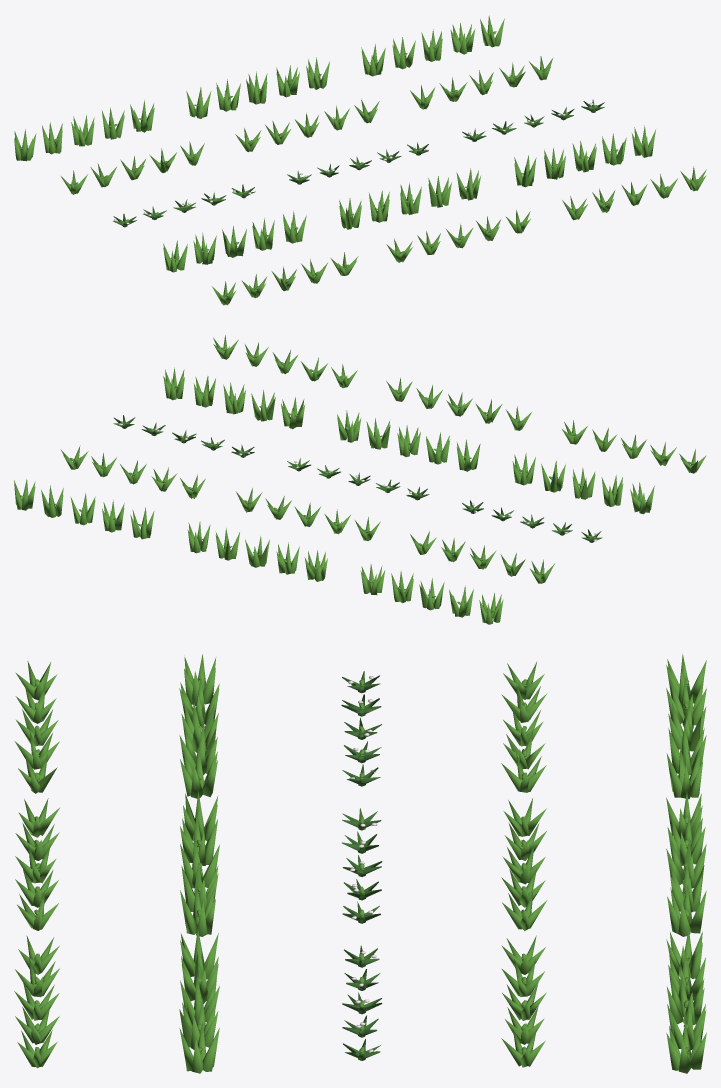
Rendered from crops-xuan.glb.
3 renders of one model, top to bottom at view 1: azimuth 30°, elevation 25°; view 2: azimuth 150°, elevation 25°; view 3: azimuth 270°, elevation 25°, orthographic. The views are drawn at different scales.
Parts seen in each view (by area): view 1: crop-b11-young, crop-b10-young, crop-b2-young, crop-b1-young, crop-b0-young, crop-b9-young, crop-b14-young, crop-b4-young, crop-b12-young, crop-b13-young, crop-b5-young, crop-b3-young (+3 smaller); view 2: crop-b0-young, crop-b11-young, crop-b10-young, crop-b9-young, crop-b1-young, crop-b2-young, crop-b3-young, crop-b12-young, crop-b13-young, crop-b14-young, crop-b5-young, crop-b4-young (+3 smaller); view 3: crop-b2-young, crop-b11-young, crop-b9-young, crop-b0-young, crop-b1-young, crop-b10-young, crop-b4-young, crop-b14-young, crop-b13-young, crop-b5-young, crop-b12-young, crop-b3-young (+3 smaller).
Part boxes in pixels (<box>): crop-b11-young: <box>514,125,655,187</box>; crop-b10-young: <box>339,168,481,229</box>; crop-b2-young: <box>361,15,504,76</box>; crop-b1-young: <box>186,57,329,118</box>; crop-b0-young: <box>14,100,154,161</box>; crop-b9-young: <box>163,211,306,272</box>; crop-b14-young: <box>562,166,706,220</box>; crop-b4-young: <box>235,99,379,151</box>; crop-b12-young: <box>212,252,358,305</box>; crop-b13-young: <box>386,210,530,262</box>; crop-b5-young: <box>410,56,553,109</box>; crop-b3-young: <box>61,141,204,194</box>; crop-b0-young: <box>360,564,503,624</box>; crop-b11-young: <box>163,367,305,429</box>; crop-b10-young: <box>337,410,480,471</box>; crop-b9-young: <box>512,453,654,514</box>; crop-b1-young: <box>187,521,327,581</box>; crop-b2-young: <box>14,479,154,539</box>; crop-b3-young: <box>410,531,554,583</box>; crop-b12-young: <box>562,420,706,473</box>; crop-b13-young: <box>386,377,531,430</box>; crop-b14-young: <box>213,335,357,388</box>; crop-b5-young: <box>60,445,205,498</box>; crop-b4-young: <box>236,488,380,540</box>; crop-b2-young: <box>666,928,706,1073</box>; crop-b11-young: <box>179,928,219,1073</box>; crop-b9-young: <box>179,654,219,798</box>; crop-b0-young: <box>666,654,706,799</box>; crop-b1-young: <box>666,791,706,936</box>; crop-b10-young: <box>180,791,219,936</box>; crop-b4-young: <box>501,798,547,930</box>; crop-b14-young: <box>14,935,59,1068</box>; crop-b13-young: <box>15,798,59,930</box>; crop-b5-young: <box>501,935,546,1067</box>; crop-b12-young: <box>14,661,59,793</box>; crop-b3-young: <box>501,662,547,792</box>.
Bounding box in the file's own units: 2.82 × 0.1307 × 2.13.
